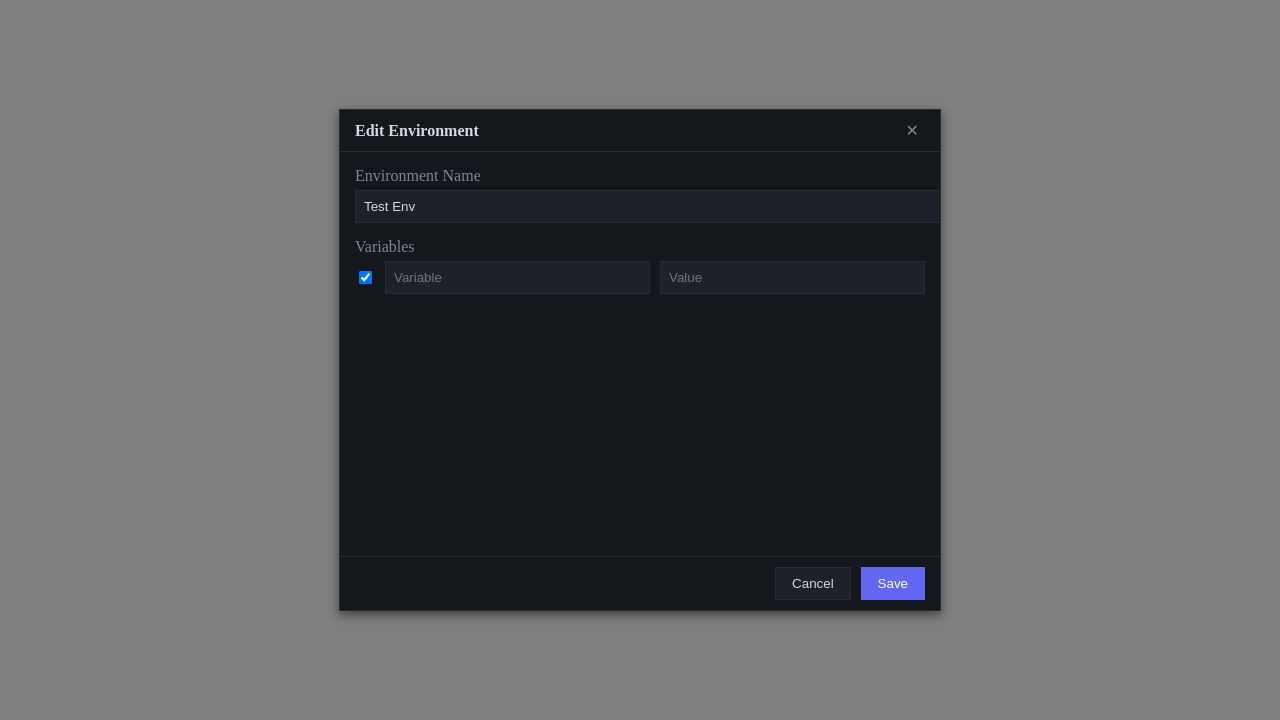
Test: EnvironmentModal › adds new row if key is present but value empty in last row
Type "K" into the field with placeholder "Variable" at (518, 278), box [385,261,650,294]
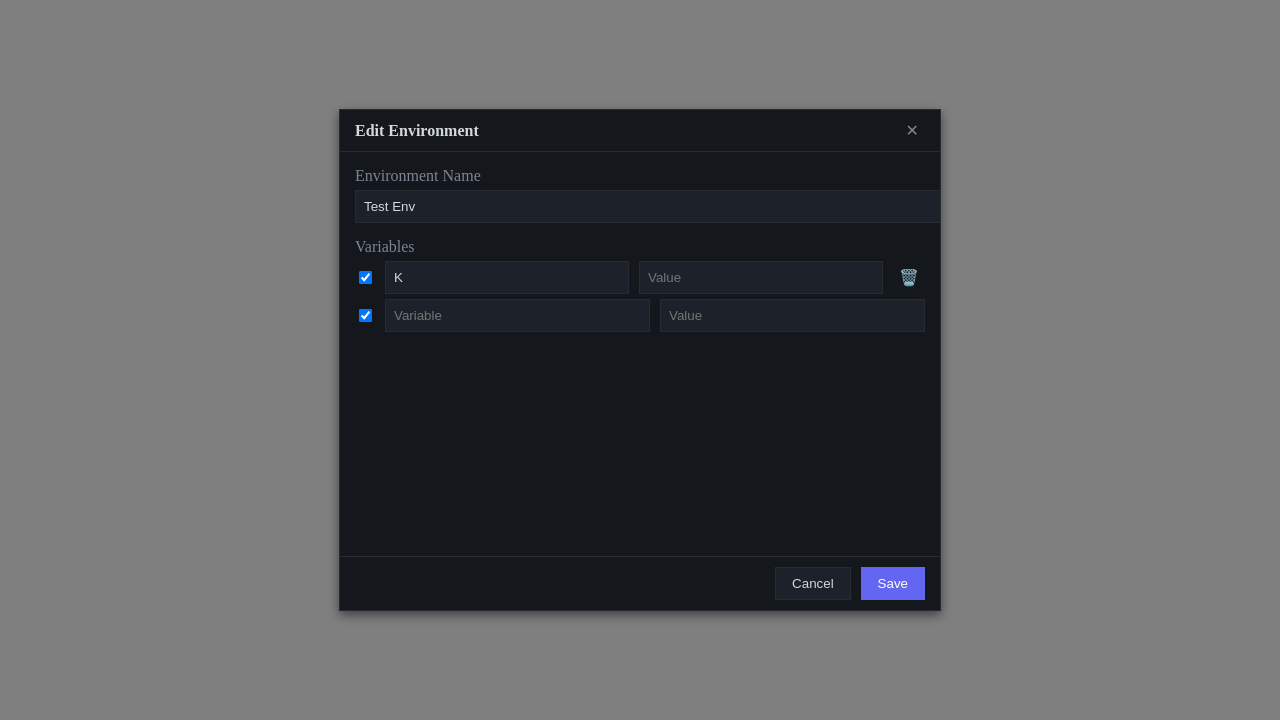
Expected: the number of fields with placeholder "Variable" is 2, [385,261,629,294]; [385,299,650,332]
